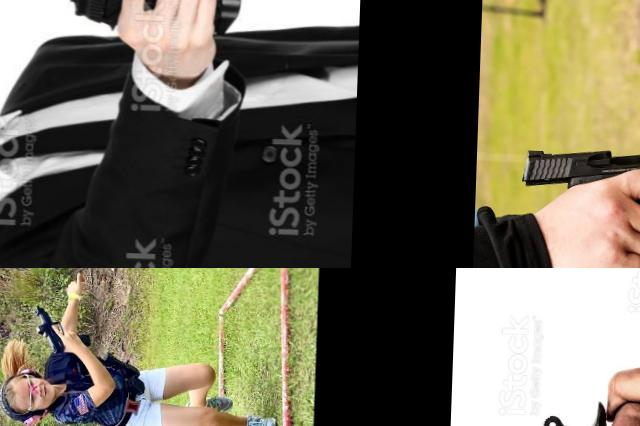handgun: (514, 128, 640, 268), (66, 0, 250, 78), (30, 302, 95, 356)
